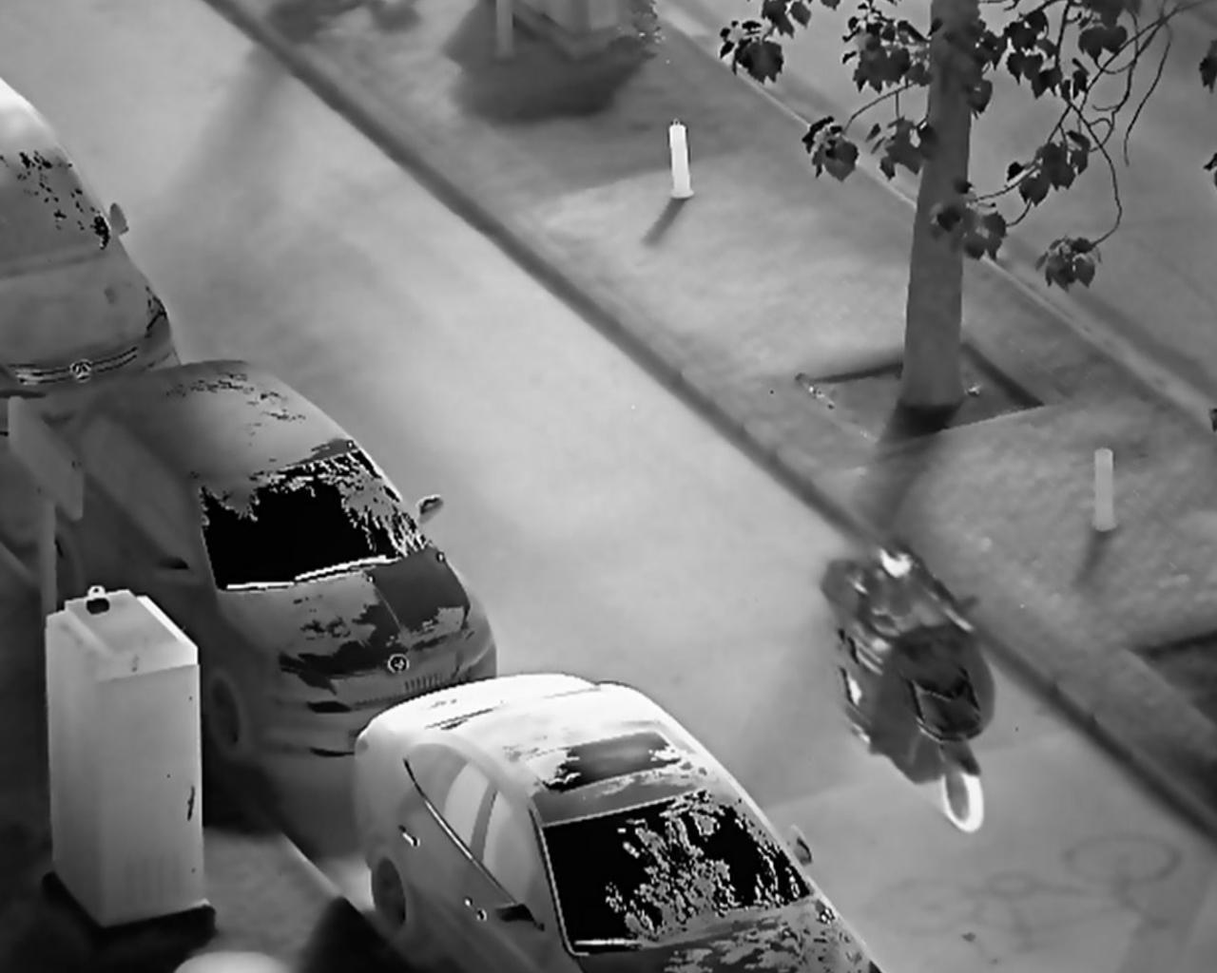person: (852, 534, 985, 709)
